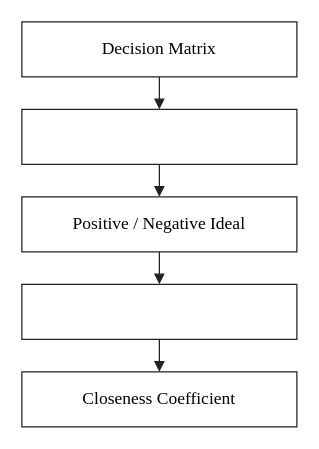
Image size: 319x449. Some labels were removed from this diagram. The centre of each missing label's shape, as x and y in pixels:
Distance Calculation: point 159,311
Normalize and Weight: point 159,136
